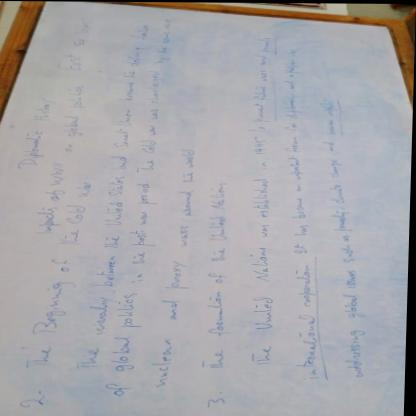Handwritten text: (103, 11, 181, 406), (73, 14, 156, 379), (265, 37, 326, 397), (314, 92, 382, 386), (17, 166, 98, 380), (240, 29, 284, 367), (150, 142, 205, 394), (24, 73, 93, 244), (198, 177, 239, 379), (14, 86, 61, 174), (49, 10, 97, 74)
